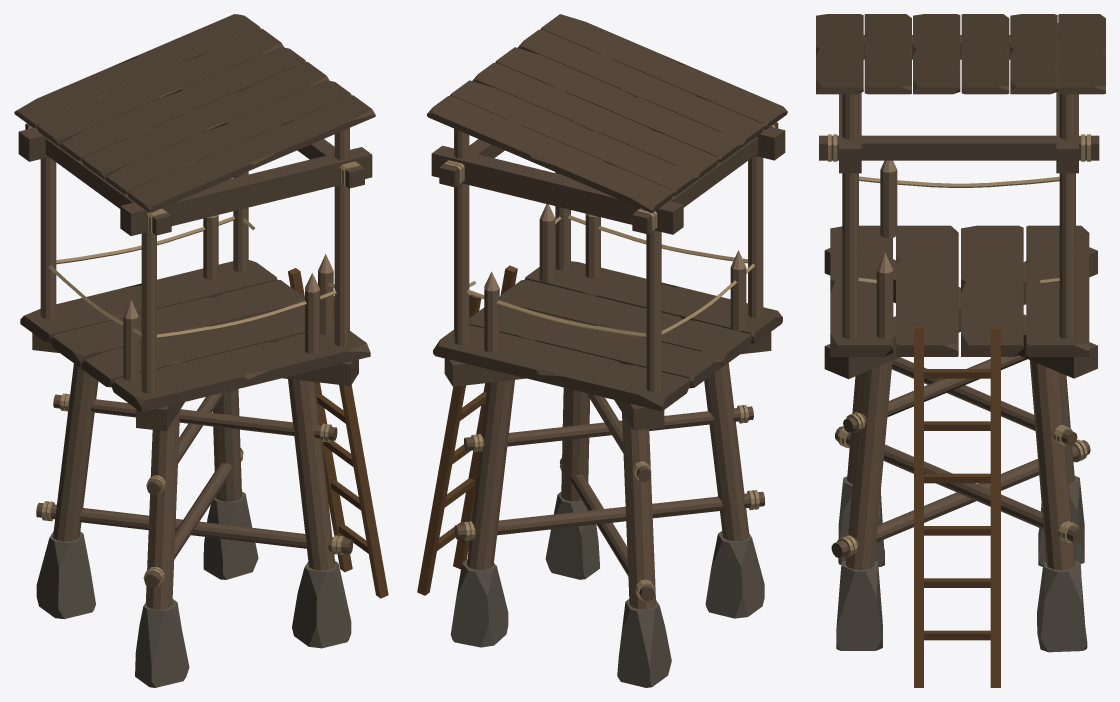
File: tower2plus_3.glb
The picture shows the model from 3 angles, left to right: view 1: azimuth 30°, elevation 25°; view 2: azimuth 150°, elevation 25°; view 3: azimuth 270°, elevation 25°; orthographic projection. The views are drawn at different scales.
Parts seen in each view (by area): view 1: Cube.060, Cube.064, Cube.071, Cube.068, Cube.066, Cube.058, Cube.067, Cube.065, Cube.069, Cube.057, Cube.059, Cylinder.046 (+29 smaller); view 2: Cube.057, Cube.069, Cube.059, Cube.070, Cube.065, Cube.067, Cube.066, Cube.064, Cube.068, Cube.058, Cube.060, Cylinder.045 (+29 smaller); view 3: Cube.059, Cube.058, Cube.057, Cube.072, Cylinder.046, Cylinder.045, Cube.060, Cube.063, Cube.061, Cube.067, Cube.056, Cube.065 (+23 smaller).
Boxes of the visible parts, x1=… form: Cube.060: x1=112, y1=326, x2=370, y2=411; Cube.064: x1=127, y1=95, x2=375, y2=212; Cube.071: x1=120, y1=147, x2=372, y2=235; Cube.068: x1=36, y1=28, x2=284, y2=146; Cube.066: x1=82, y1=62, x2=329, y2=179; Cube.058: x1=51, y1=280, x2=304, y2=367; Cube.067: x1=59, y1=47, x2=305, y2=160; Cube.065: x1=105, y1=80, x2=351, y2=194; Cube.069: x1=14, y1=14, x2=260, y2=127; Cube.057: x1=20, y1=260, x2=277, y2=342; Cube.059: x1=81, y1=305, x2=334, y2=387; Cylinder.046: x1=288, y1=379, x2=335, y2=570; Cube.057: x1=433, y1=325, x2=691, y2=411; Cube.069: x1=427, y1=96, x2=674, y2=212; Cube.059: x1=499, y1=279, x2=752, y2=366; Cube.070: x1=431, y1=145, x2=683, y2=234; Cube.065: x1=517, y1=29, x2=765, y2=146; Cube.067: x1=472, y1=63, x2=720, y2=180; Cube.066: x1=495, y1=47, x2=742, y2=162; Cube.064: x1=540, y1=14, x2=787, y2=129; Cube.068: x1=450, y1=80, x2=696, y2=195; Cube.058: x1=469, y1=305, x2=721, y2=388; Cube.060: x1=524, y1=261, x2=782, y2=343; Cylinder.045: x1=467, y1=380, x2=514, y2=569; Cube.059: x1=896, y1=225, x2=958, y2=356; Cube.058: x1=961, y1=225, x2=1023, y2=356; Cube.057: x1=1026, y1=225, x2=1089, y2=356; Cube.072: x1=819, y1=134, x2=1099, y2=161; Cylinder.046: x1=845, y1=361, x2=892, y2=569; Cylinder.045: x1=1029, y1=360, x2=1075, y2=570; Cube.060: x1=830, y1=225, x2=892, y2=356; Cube.063: x1=924, y1=369, x2=990, y2=640; Cube.061: x1=990, y1=326, x2=1000, y2=687; Cube.067: x1=961, y1=14, x2=1009, y2=94; Cube.056: x1=1037, y1=560, x2=1087, y2=652; Cube.065: x1=864, y1=14, x2=911, y2=94.
Bounding box in the file's own units: 10 × 17.42 × 8.01.
